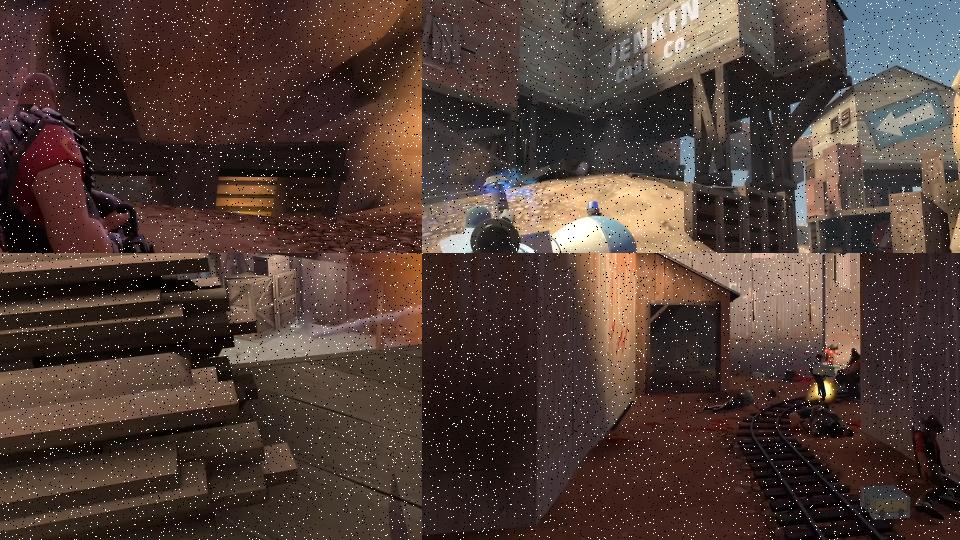Enemy: (0, 68, 193, 253), (898, 409, 960, 521), (434, 200, 533, 253), (835, 345, 862, 402), (821, 343, 840, 365)
